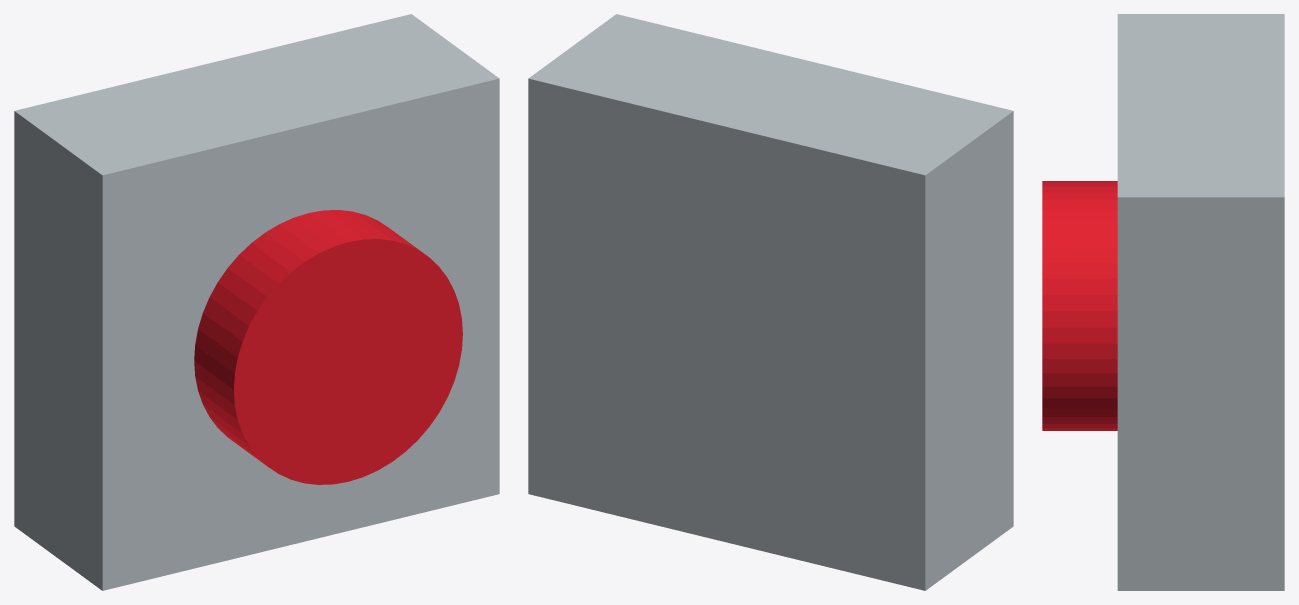
The model's file is BotonLanzamiento.obj.
3 renders of one model, left to right at view 1: azimuth 30°, elevation 25°; view 2: azimuth 150°, elevation 25°; view 3: azimuth 270°, elevation 25°, orthographic. The views are drawn at different scales.
Parts seen in each view (by area): view 1: obj_0, obj_1; view 2: obj_0; view 3: obj_0, obj_1.
Part boxes in pixels (<box>): obj_0: <box>14,14,499,590</box>; obj_1: <box>194,210,462,484</box>; obj_0: <box>528,14,1013,590</box>; obj_0: <box>1117,14,1284,590</box>; obj_1: <box>1042,181,1117,430</box>.
Bounding box in the file's own units: 52 × 52 × 29.
